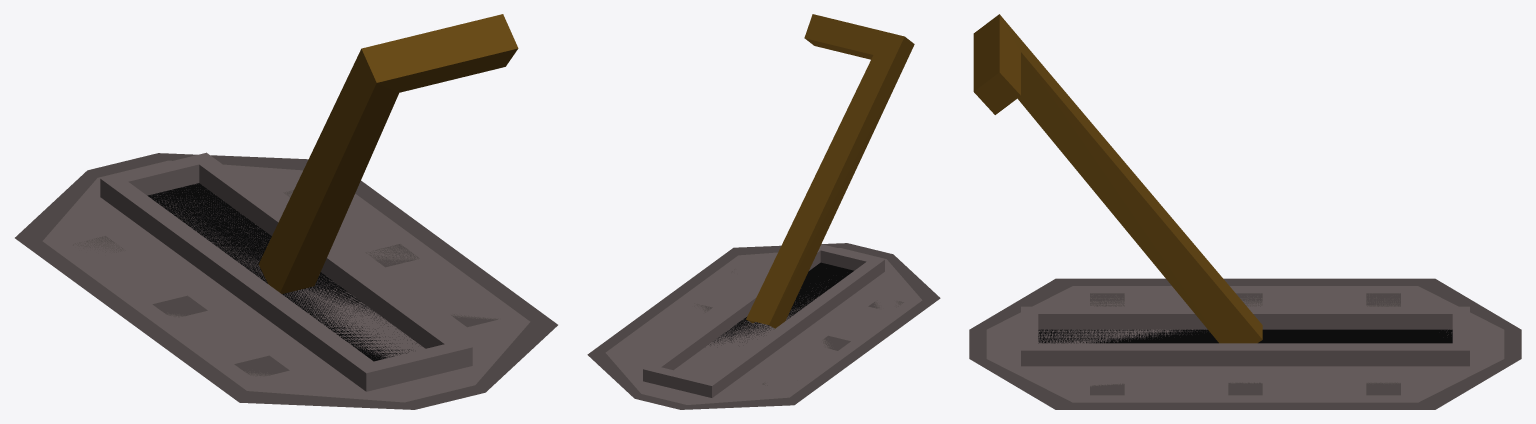
File: model_loc_670_8.obj
3 renders of one model, left to right at view 1: azimuth 30°, elevation 25°; view 2: azimuth 150°, elevation 25°; view 3: azimuth 270°, elevation 25°, orthographic. The views are drawn at different scales.
Visible parts, largest first — view 1: 1774; view 2: 1774; view 3: 1774.
Part boxes in pixels (x1,y1,x2,y2): 1774: (15,14,557,409); 1774: (587,14,940,409); 1774: (969,14,1521,409).
Size of the model in its own units: 72 by 79 by 128.
